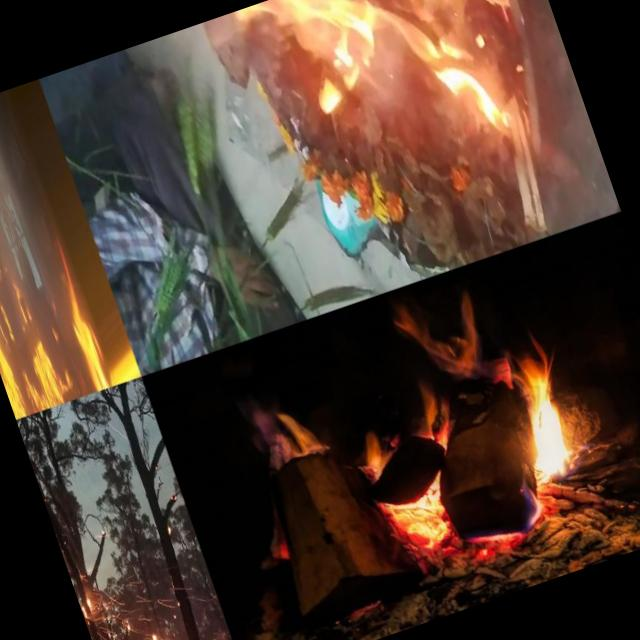fire: (230, 274, 596, 609), (203, 0, 464, 286), (0, 160, 116, 419), (194, 188, 312, 342), (76, 592, 98, 622), (148, 626, 161, 640)
